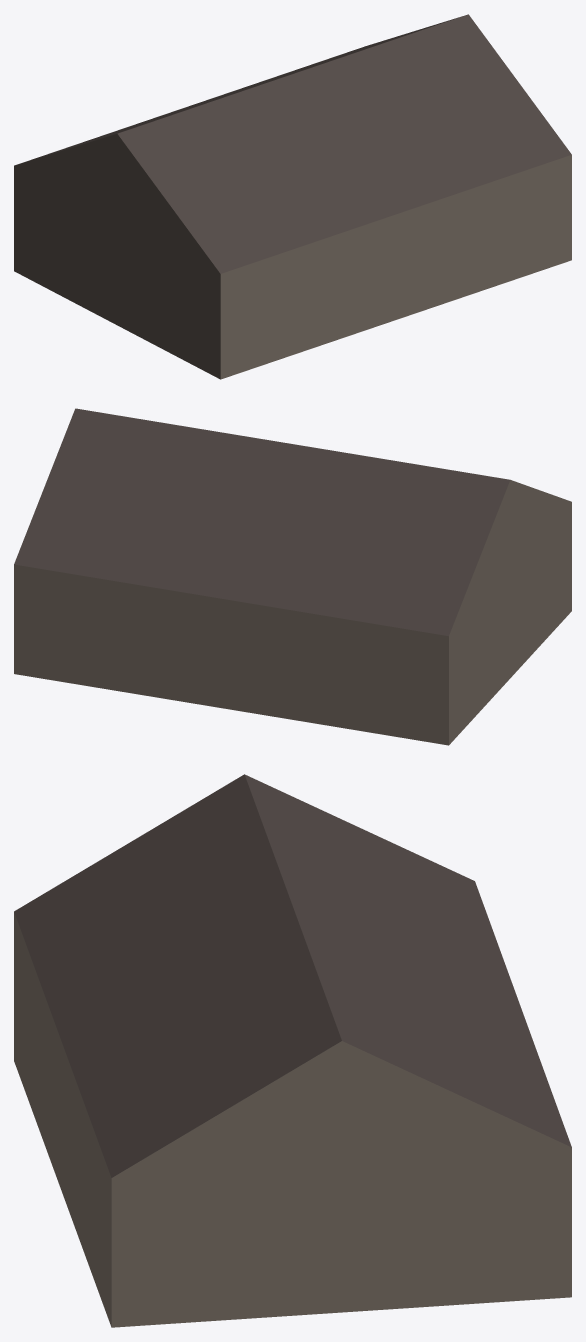
3 renders of one model, top to bottom at view 1: azimuth 30°, elevation 25°; view 2: azimuth 150°, elevation 25°; view 3: azimuth 270°, elevation 25°, orthographic. The views are drawn at different scales.
Visible parts, largest first — view 1: HP-w858807467; view 2: HP-w858807467; view 3: HP-w858807467.
Boxes of the visible parts, box(x1,y1,x2,y2) form: HP-w858807467: box(14, 14, 571, 379); HP-w858807467: box(14, 408, 571, 745); HP-w858807467: box(14, 774, 571, 1327).
Bounding box in the file's own units: 12.78 × 5.45 × 10.14.
